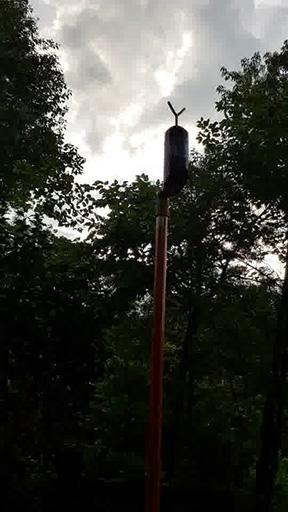Detector_Tensao_Contato: (161, 100, 190, 197)
Vara_Manobra: (151, 197, 172, 512)
